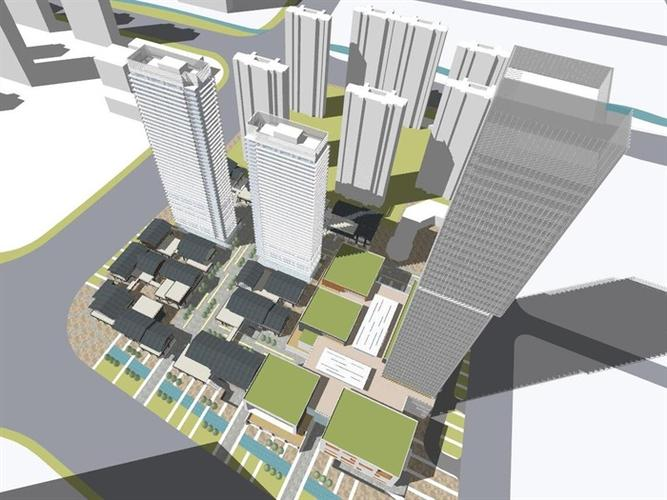buildings: (397, 107, 625, 387), (67, 233, 230, 442), (238, 99, 338, 288)
